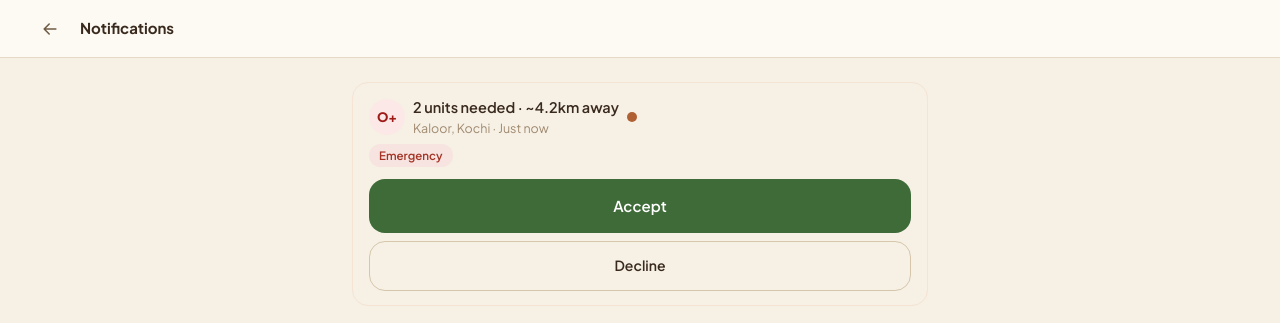
NotificationsPage › accepts a request and shows the requester's contact and location
Click the button "Accept". click: (640, 206)
box: x1=369 y1=179 x2=911 y2=233
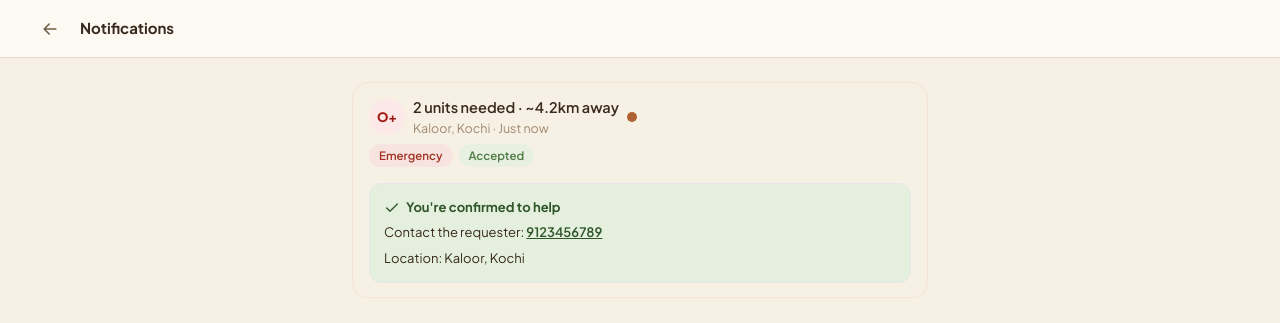
Now the text "You're confirmed to help" is shown, box x1=384 y1=199 x2=561 y2=216
Now the link "9123456789" is shown, box x1=526 y1=224 x2=602 y2=240
Now the text "Location: Kaloor, Kochi" is shown, box x1=384 y1=250 x2=525 y2=266
